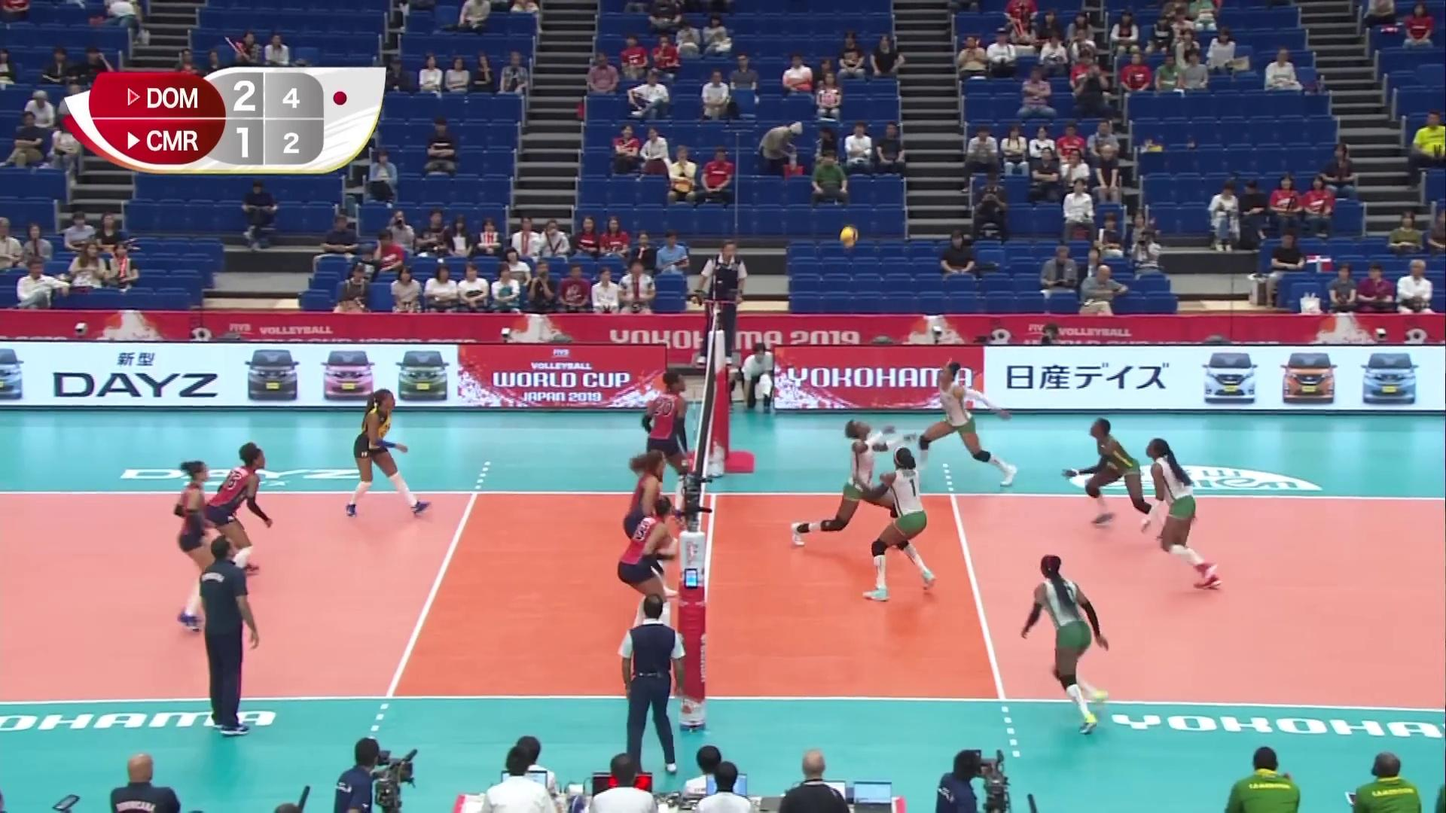player: (1018, 551, 1112, 734), (788, 421, 919, 549), (909, 360, 1018, 486), (1141, 436, 1224, 593), (1063, 416, 1166, 528), (171, 460, 239, 628), (867, 446, 936, 606), (624, 450, 689, 614), (349, 386, 431, 515), (201, 443, 272, 580), (621, 496, 677, 662), (640, 375, 693, 524)
refree: (615, 592, 684, 778), (698, 240, 745, 361)
